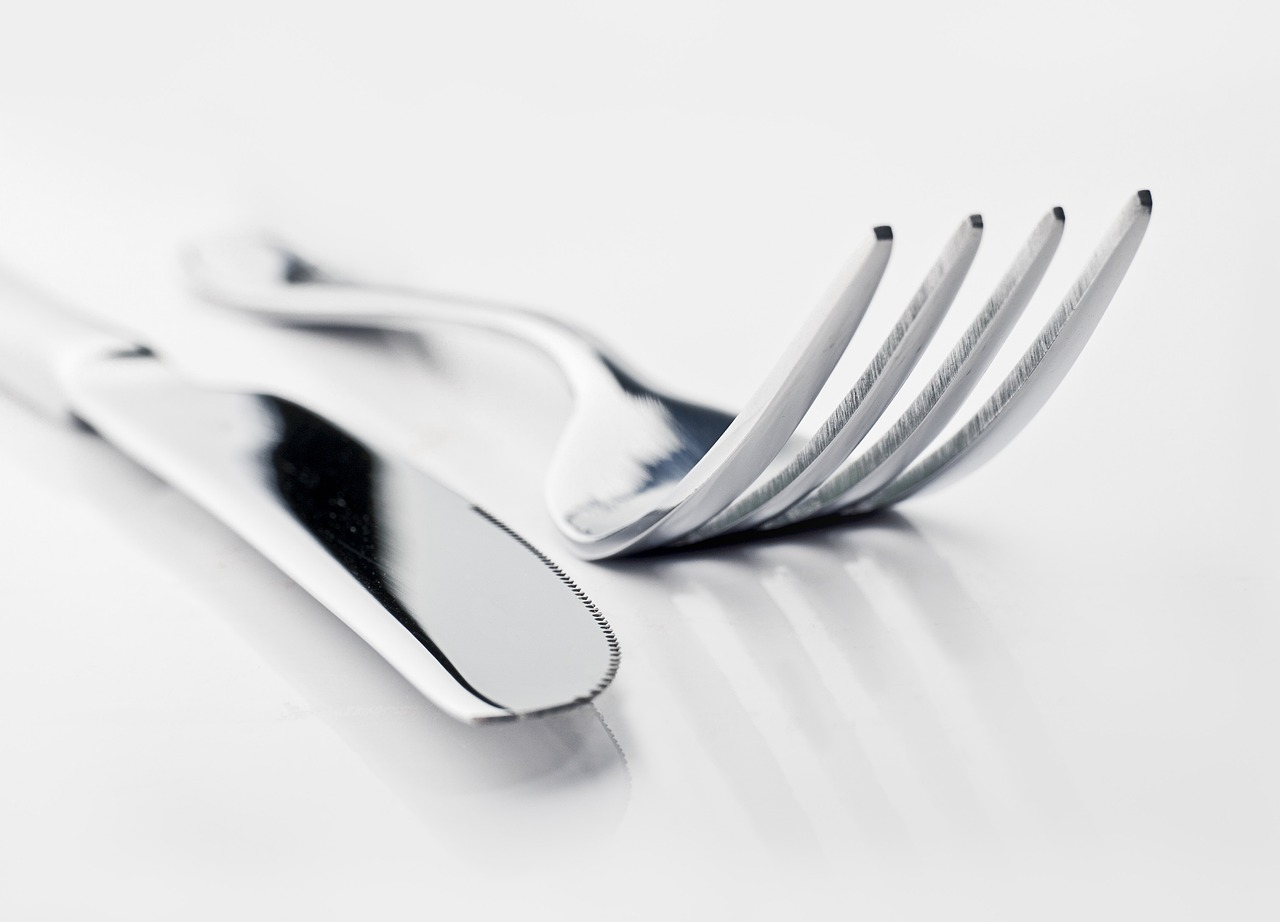knife: (0, 196, 637, 757)
